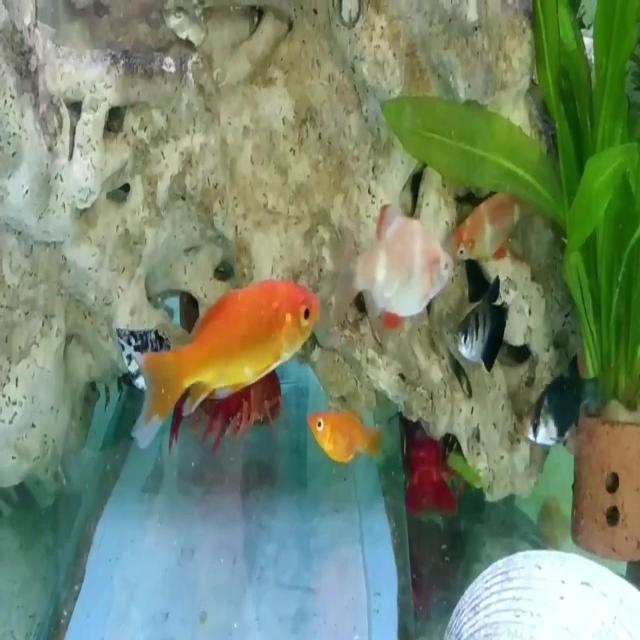GoldFish: (135, 275, 322, 476)
